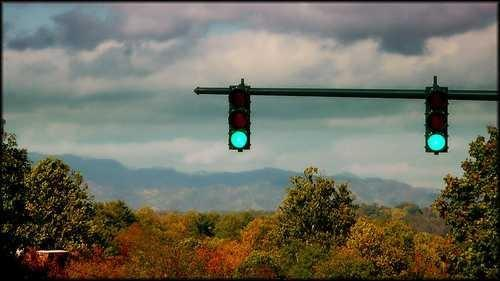2: (426, 86, 450, 153), (228, 82, 250, 152)
3: (426, 87, 448, 109), (230, 84, 249, 109), (428, 111, 448, 131), (231, 109, 250, 128)
red traffic light: (425, 132, 448, 152), (230, 130, 249, 148)
